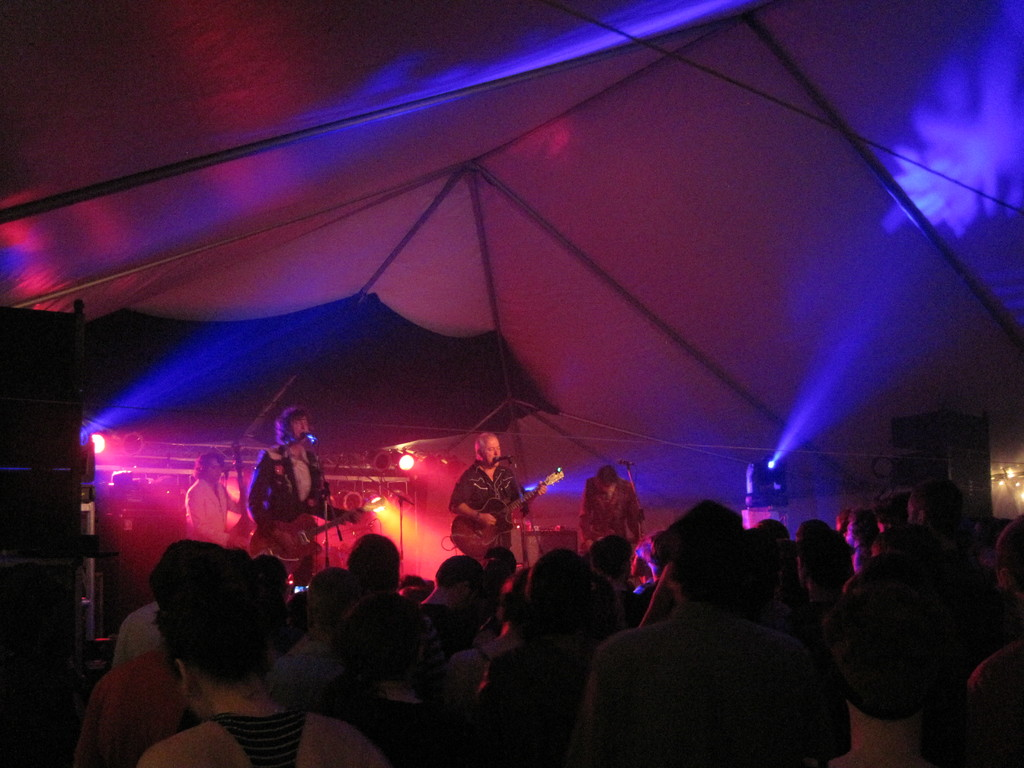Person: (68, 399, 1023, 768), (248, 412, 330, 584), (448, 433, 547, 558), (574, 466, 642, 577), (182, 452, 249, 547)
